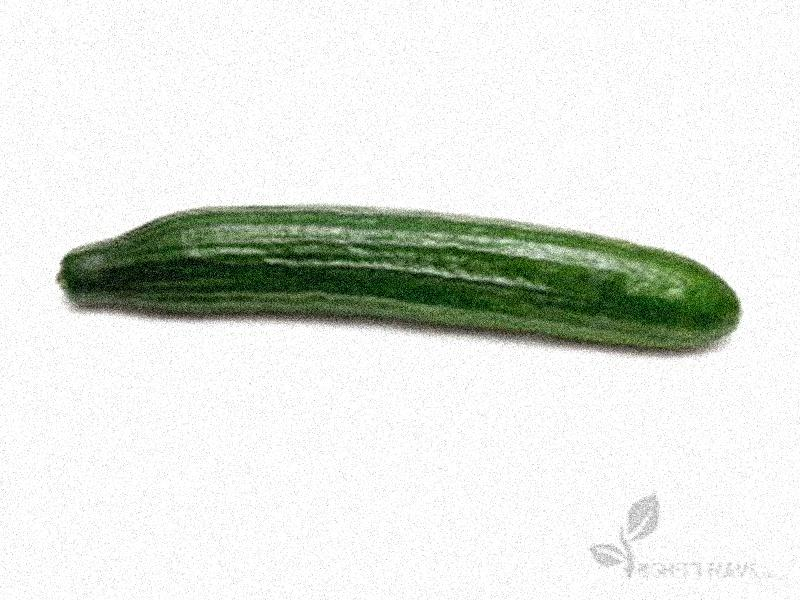Cucumber: (56, 206, 744, 349)
